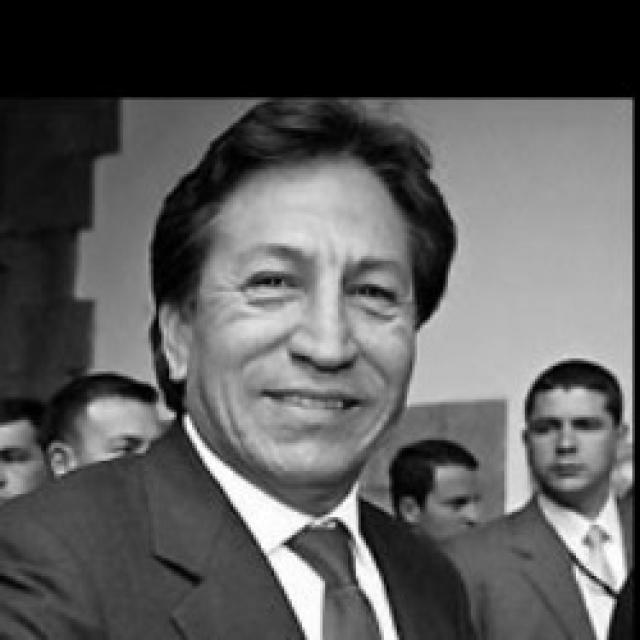real: (182, 159, 414, 490), (232, 258, 410, 321)
